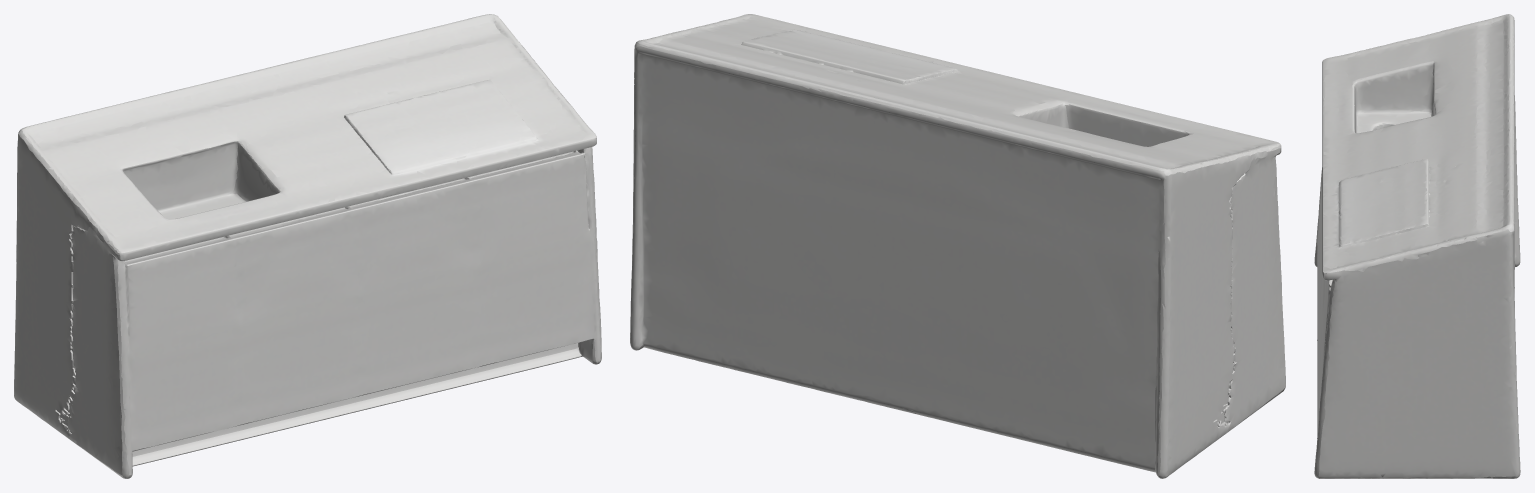
Rendered from item_c4b13e7a.glb.
3 renders of one model, left to right at view 1: azimuth 30°, elevation 25°; view 2: azimuth 150°, elevation 25°; view 3: azimuth 270°, elevation 25°, orthographic. The views are drawn at different scales.
Visible parts, largest first — view 1: world; view 2: world; view 3: world.
Part boxes in pixels (x1=…): world: x1=14, y1=14, x2=601, y2=478; world: x1=630, y1=14, x2=1285, y2=478; world: x1=1314, y1=14, x2=1520, y2=478.
Bounding box in the file's own units: 1.8 × 0.9825 × 0.7242.
1 material, 1 textured.
